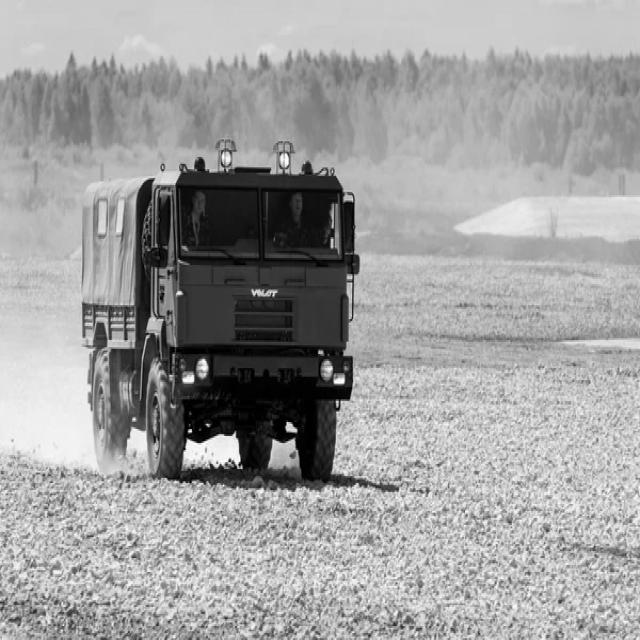Truck: (82, 138, 361, 480)
